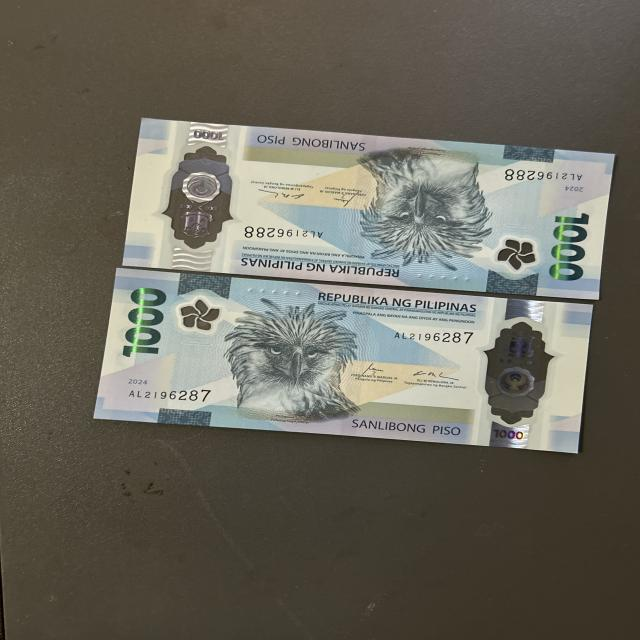clear_window: (159, 145, 238, 250), (482, 311, 552, 429)
eagle: (348, 145, 492, 266), (230, 300, 358, 426)
sampaguita: (496, 233, 540, 270), (176, 299, 220, 334)
serial_number: (244, 223, 327, 243), (385, 328, 477, 346), (123, 388, 214, 406), (502, 166, 586, 184)
value: (120, 290, 173, 362), (549, 210, 596, 282)
